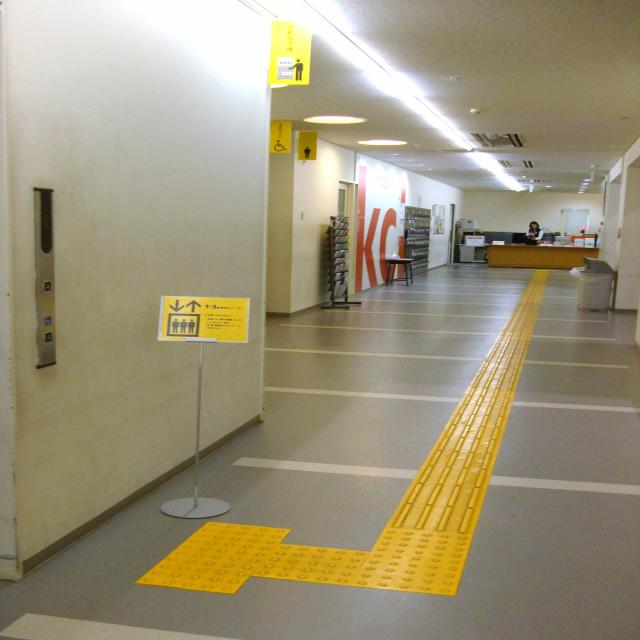tactile-guide-path: (388, 267, 554, 535), (138, 521, 474, 593)
